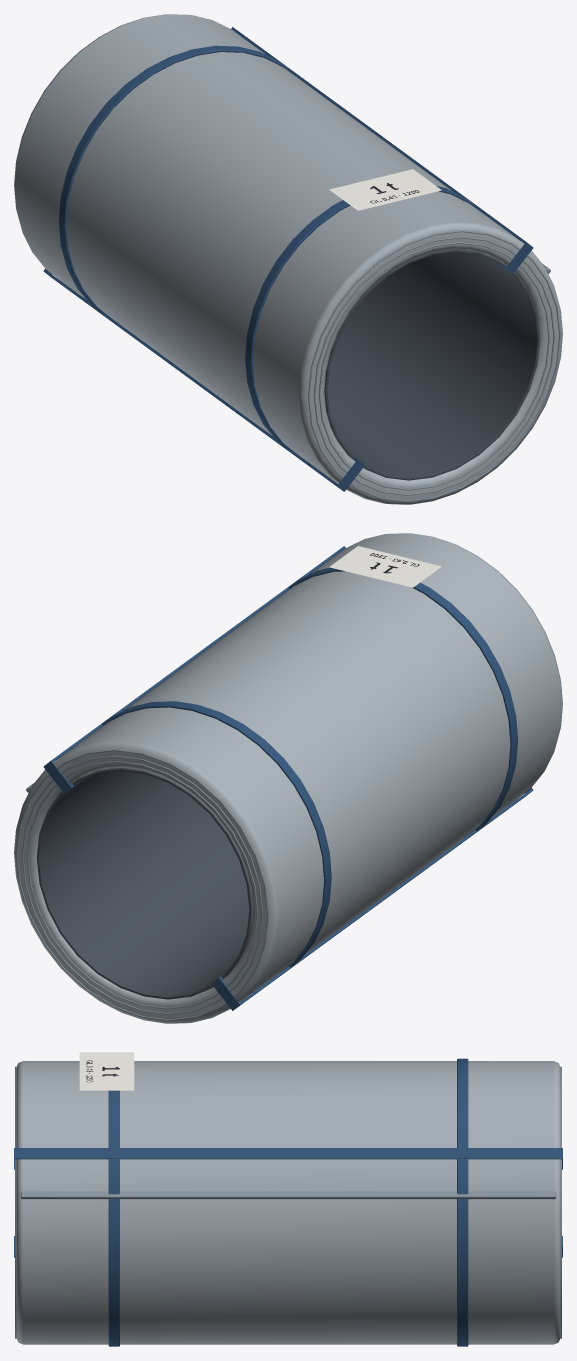
File: bobina_1t.glb
The picture shows the model from 3 angles, top to bottom: view 1: azimuth 30°, elevation 25°; view 2: azimuth 150°, elevation 25°; view 3: azimuth 270°, elevation 25°; orthographic projection. The views are drawn at different scales.
Visible parts, largest first — view 1: corpo, furo, cinta (×2), espira (×3), cinta_furo (×2), etiqueta; view 2: corpo, furo, cinta (×2), espira (×3), cinta_furo (×2), etiqueta; view 3: corpo, cinta_furo, cinta (×2), ponta_chapa, etiqueta, espira (×2).
Boxes of the visible parts, left/top/right/bottom form: corpo: left=14, top=14, right=562, bottom=504; furo: left=324, top=249, right=540, bottom=480; cinta (×2): left=58, top=45, right=477, bottom=452; espira (×3): left=308, top=230, right=560, bottom=501; cinta_furo (×2): left=43, top=27, right=533, bottom=491; etiqueta: left=329, top=169, right=441, bottom=210; corpo: left=14, top=533, right=562, bottom=1023; furo: left=36, top=768, right=252, bottom=999; cinta (×2): left=99, top=567, right=518, bottom=971; espira (×3): left=16, top=749, right=268, bottom=1020; cinta_furo (×2): left=43, top=546, right=533, bottom=1010; etiqueta: left=329, top=546, right=441, bottom=587; corpo: left=16, top=1061, right=560, bottom=1344; cinta_furo: left=14, top=1148, right=562, bottom=1169; cinta (×2): left=108, top=1058, right=468, bottom=1346; ponta_chapa: left=20, top=1191, right=556, bottom=1199; etiqueta: left=79, top=1052, right=134, bottom=1090; espira (×2): left=15, top=1066, right=561, bottom=1338.
Bounding box in the file's own units: 0.6371 × 0.6381 × 1.21.
Materials: 5 (1 with a texture image).
